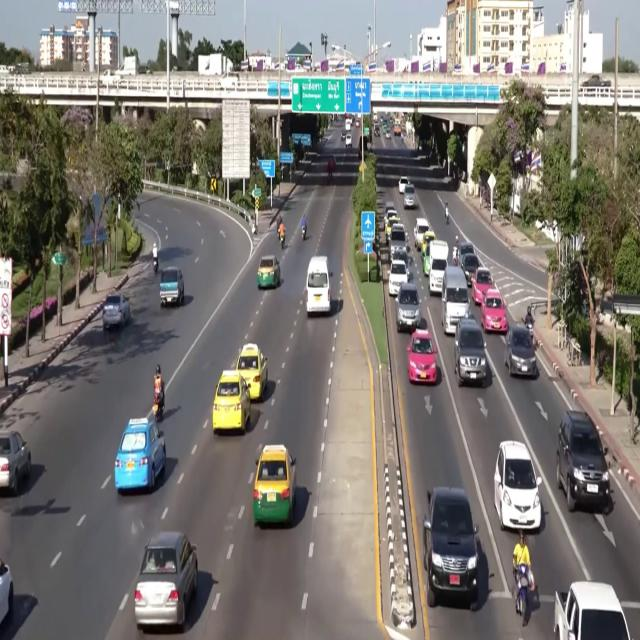car: (423, 488, 478, 610), (134, 532, 197, 629), (556, 411, 610, 511), (494, 441, 541, 530), (114, 418, 166, 493), (253, 445, 296, 526), (212, 370, 250, 433), (455, 316, 487, 386), (0, 432, 31, 495), (505, 325, 538, 377), (237, 344, 267, 400), (407, 329, 436, 383), (396, 283, 422, 332), (480, 288, 508, 333), (102, 293, 130, 330), (0, 560, 14, 627), (160, 267, 184, 306), (257, 255, 281, 289), (472, 267, 493, 304), (388, 260, 408, 296), (389, 224, 408, 260), (460, 254, 480, 287), (414, 217, 429, 250), (385, 210, 399, 239), (421, 230, 436, 254), (581, 75, 611, 87), (219, 72, 239, 89), (459, 241, 475, 261), (421, 243, 430, 277), (403, 184, 415, 208), (394, 249, 409, 268), (385, 200, 395, 219), (399, 176, 409, 194), (345, 134, 351, 148), (374, 126, 380, 136), (385, 130, 391, 140), (341, 131, 346, 140), (355, 120, 359, 127)
scooty: (516, 564, 529, 626), (524, 320, 536, 348), (152, 394, 163, 422), (153, 258, 159, 274), (280, 233, 284, 249), (302, 226, 306, 240)
truck: (554, 582, 629, 639), (429, 240, 448, 295), (198, 54, 233, 75), (103, 56, 137, 77)
